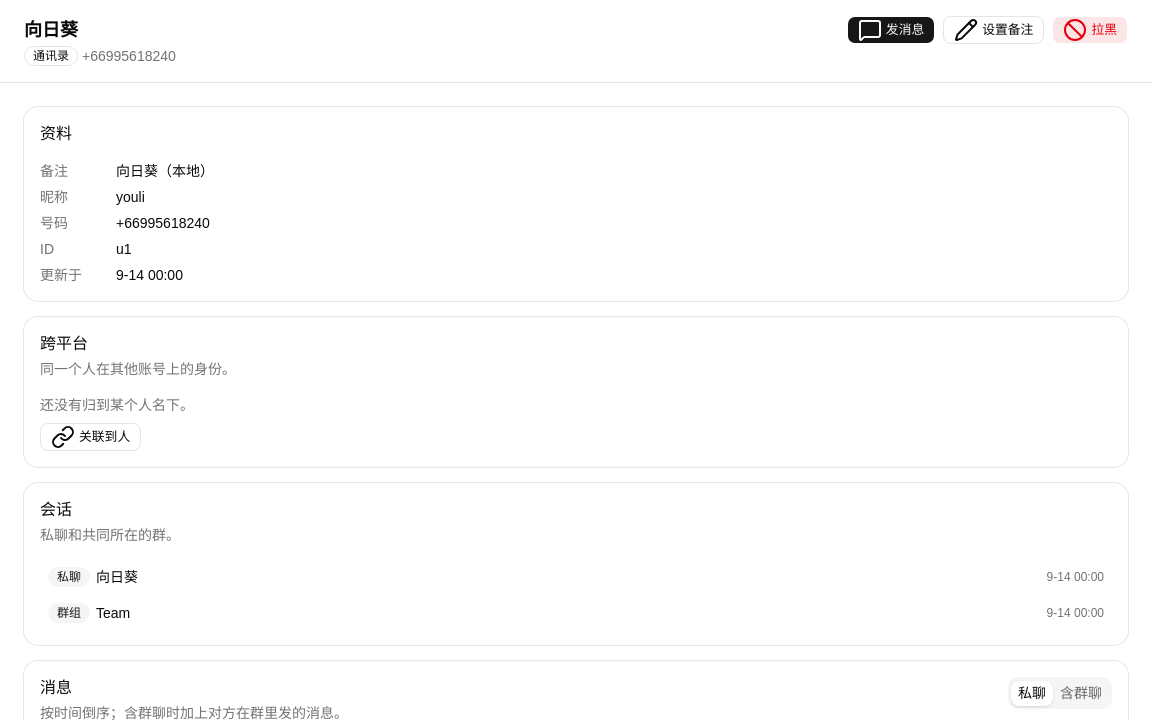
contactDetail › shows the profile, shared chats and a timeline that widens to groups
Expected: the heading "向日葵" is shown, [24,20,78,40]
Expected: the text "向日葵（本地）" is shown, [116,163,214,179]
Click the tab "含群聊" at (1081,693), box [1053,680,1109,706]
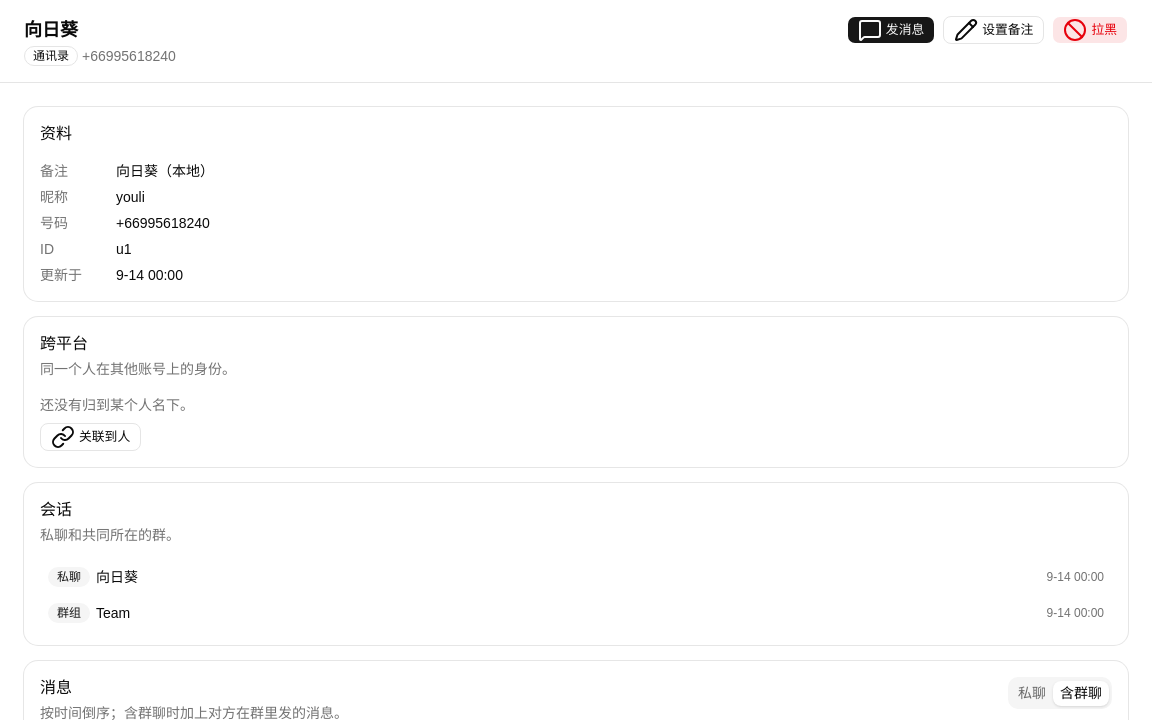
Click the button "关联到人" at (91,437), box [40,423,141,451]
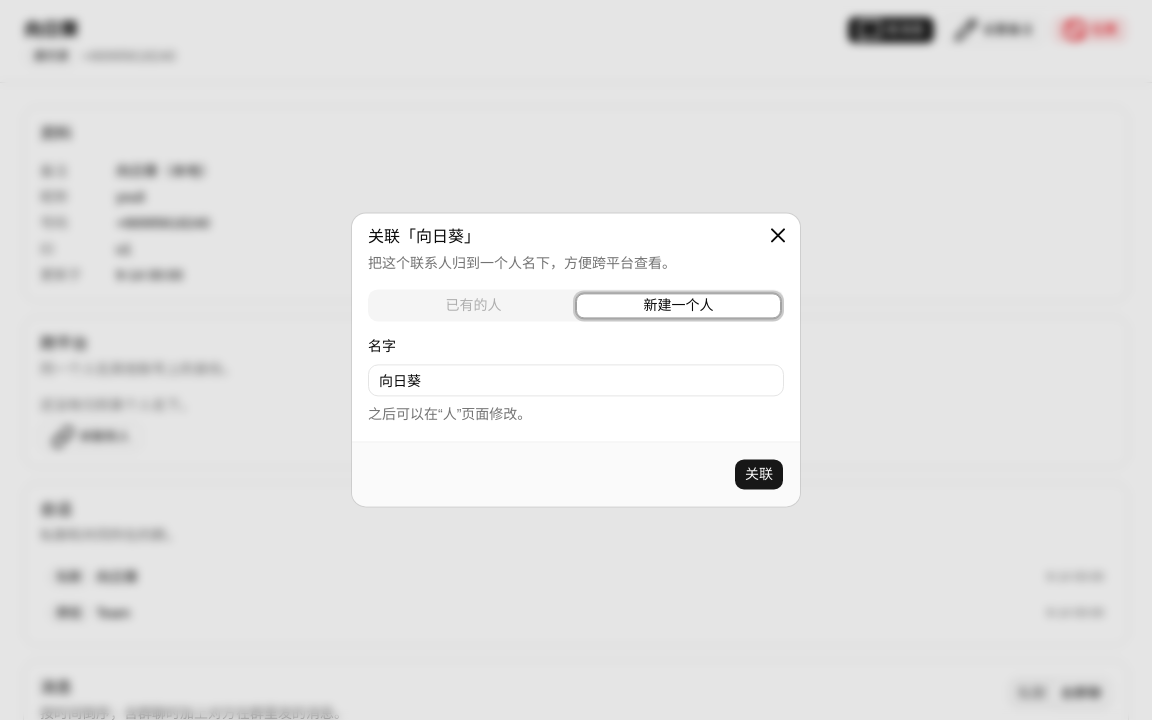
Expected: the heading "关联「向日葵」" is shown, [368,228,480,245]
